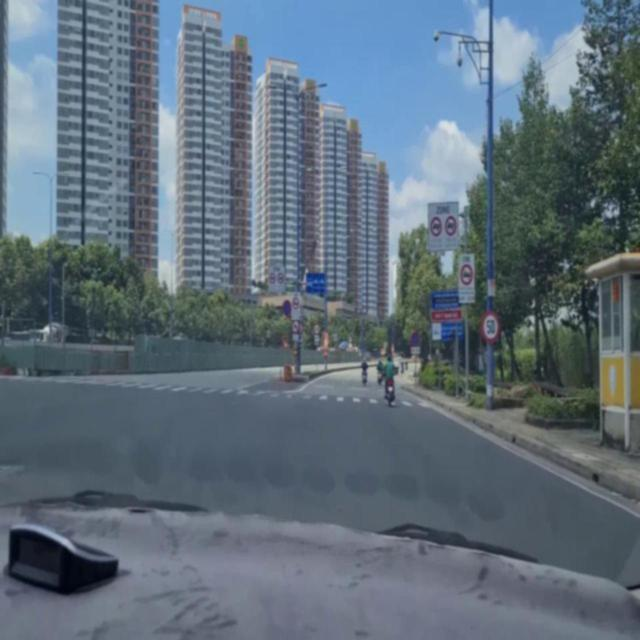Cấm các phương tiện hoạt động trong khung giờ cố định: (424, 197, 462, 251), (456, 250, 476, 305), (264, 260, 288, 292)
Cấm dừng - Cấm đỗ: (278, 296, 291, 318), (407, 326, 420, 347)
Cấm xe máy: (291, 316, 300, 335)
Giới hạn tốc độ: 50Km/h: (478, 309, 500, 341)
Giới hạn tốc độ: 80Km/h: (314, 320, 320, 335)
Khác: (427, 288, 464, 339)
Làn đường cho từng xe: (303, 267, 326, 295)
